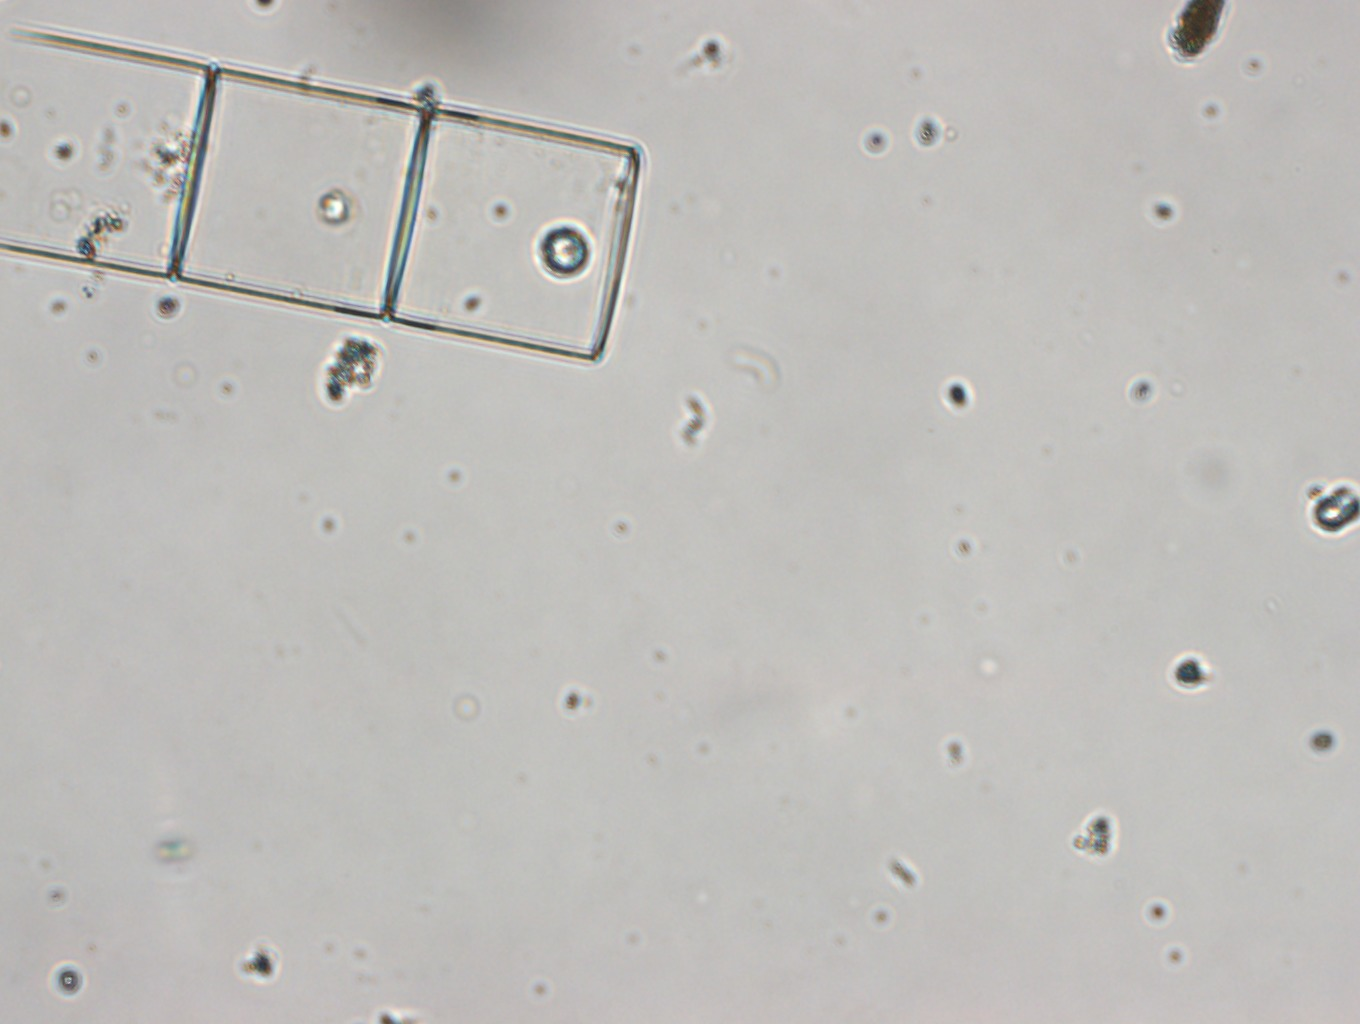guinardia flaccida: (2, 28, 641, 365)
